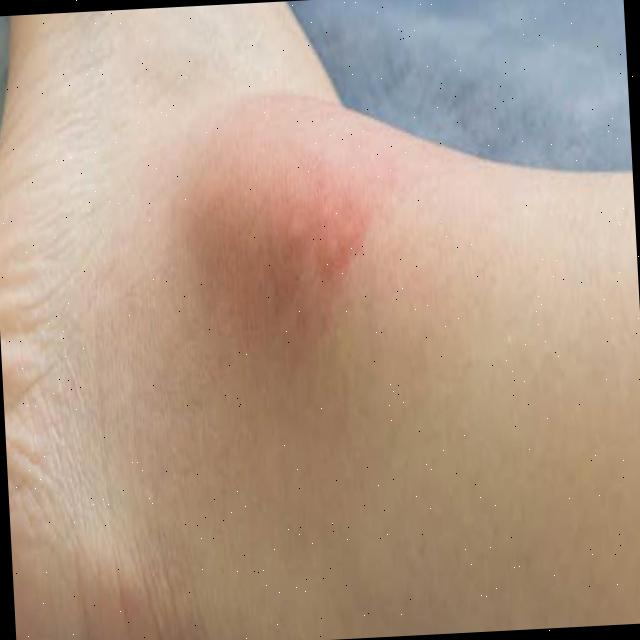sinek: (278, 164, 384, 299)
